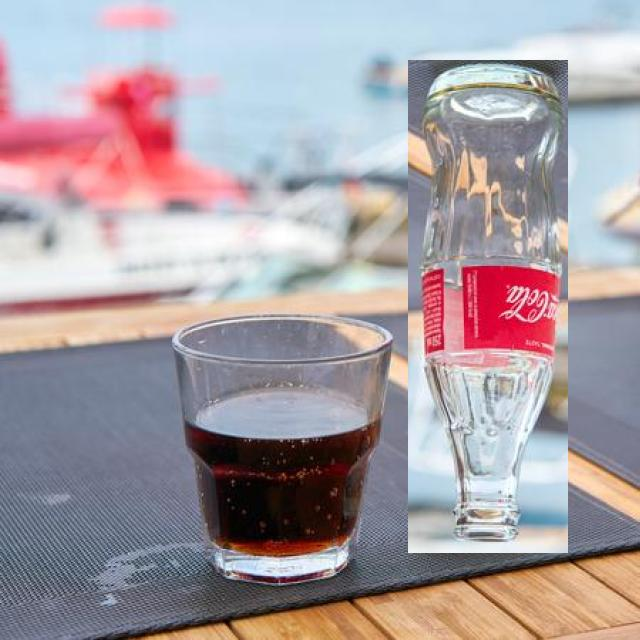coca-cola: (408, 60, 568, 553)
